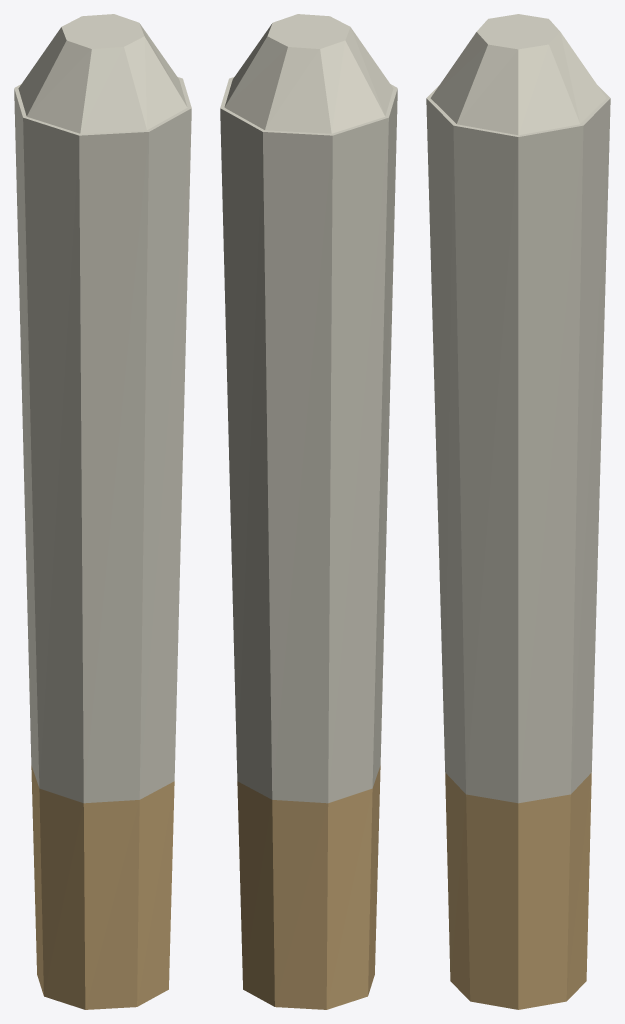
The model's file is tool_joint_unlit.obj.
The picture shows the model from 3 angles, left to right: view 1: azimuth 30°, elevation 25°; view 2: azimuth 150°, elevation 25°; view 3: azimuth 270°, elevation 25°; orthographic projection.
Visible parts, largest first — view 1: tool_joint_unlit; view 2: tool_joint_unlit; view 3: tool_joint_unlit.
Boxes of the visible parts, x1,y1,x2,y2 form: tool_joint_unlit: [14, 14, 191, 1009]; tool_joint_unlit: [220, 14, 397, 1009]; tool_joint_unlit: [426, 14, 610, 1009].
Size of the model in its own units: 0.0176 by 0.1 by 0.0176.
